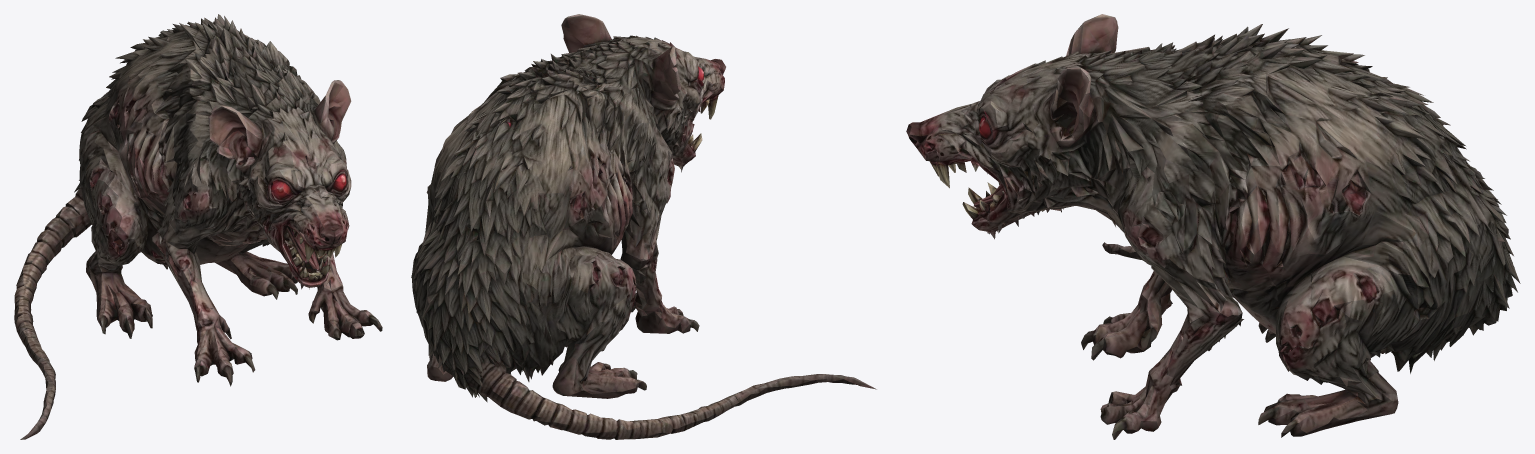
File: rat.glb
3 renders of one model, left to right at view 1: azimuth 30°, elevation 25°; view 2: azimuth 150°, elevation 25°; view 3: azimuth 270°, elevation 25°, orthographic. The views are drawn at different scales.
Parts seen in each view (by area): view 1: Mesh_0; view 2: Mesh_0; view 3: Mesh_0.
Part boxes in pixels (x1,y1,x2,y2): Mesh_0: (14,14,382,439); Mesh_0: (411,14,876,439); Mesh_0: (906,14,1520,439).
Size of the model in its own units: 1.6 by 1.28 by 1.9.
Materials: 1 (1 with a texture image).
